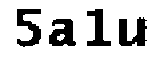1: (80, 6, 113, 49)
5: (8, 5, 46, 49)
a: (48, 15, 78, 50)
u: (116, 14, 150, 51)
